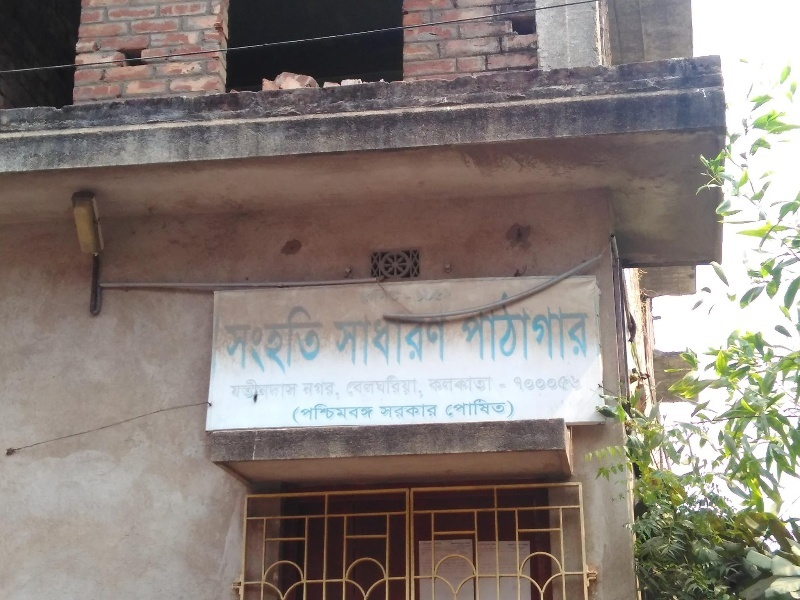text: (465, 290, 480, 363), (481, 290, 496, 363), (497, 290, 512, 363), (513, 290, 528, 363), (529, 290, 544, 363), (545, 290, 560, 363), (561, 290, 576, 363), (225, 304, 240, 376), (241, 304, 256, 376), (257, 304, 272, 376), (273, 304, 288, 376), (289, 304, 304, 376), (305, 304, 320, 376), (577, 290, 591, 363), (337, 311, 352, 369), (353, 311, 368, 369), (369, 311, 384, 369), (385, 311, 400, 369), (401, 311, 416, 369), (417, 311, 432, 369), (433, 311, 448, 369), (458, 290, 464, 363), (321, 304, 327, 376), (353, 372, 368, 400), (369, 372, 384, 400), (385, 372, 400, 400), (401, 372, 416, 400), (305, 401, 320, 425), (321, 401, 336, 425), (337, 401, 352, 425), (353, 401, 368, 425), (449, 397, 464, 421), (465, 397, 480, 421), (481, 397, 496, 421), (497, 397, 512, 421), (305, 376, 320, 399), (321, 376, 336, 399), (433, 374, 448, 396), (449, 374, 464, 396), (465, 374, 480, 396), (481, 374, 496, 396), (369, 286, 384, 308), (385, 286, 400, 308), (417, 284, 432, 306), (433, 284, 448, 306), (529, 374, 544, 395), (545, 374, 560, 395), (561, 374, 576, 395), (417, 372, 428, 400), (401, 286, 415, 308), (241, 379, 256, 399), (257, 379, 272, 399), (273, 379, 288, 399), (292, 401, 304, 425), (515, 374, 528, 395), (385, 402, 400, 420), (401, 402, 416, 420), (417, 402, 432, 420), (497, 374, 508, 396), (289, 379, 301, 399), (332, 311, 336, 369), (345, 372, 352, 400), (369, 401, 377, 425), (231, 379, 240, 399), (360, 286, 368, 308), (577, 374, 584, 395), (426, 374, 432, 396), (433, 402, 440, 420), (449, 311, 451, 369), (337, 376, 342, 399), (449, 284, 454, 306), (379, 402, 384, 420), (445, 397, 448, 421), (513, 397, 515, 421), (303, 376, 304, 399), (415, 284, 416, 306)
